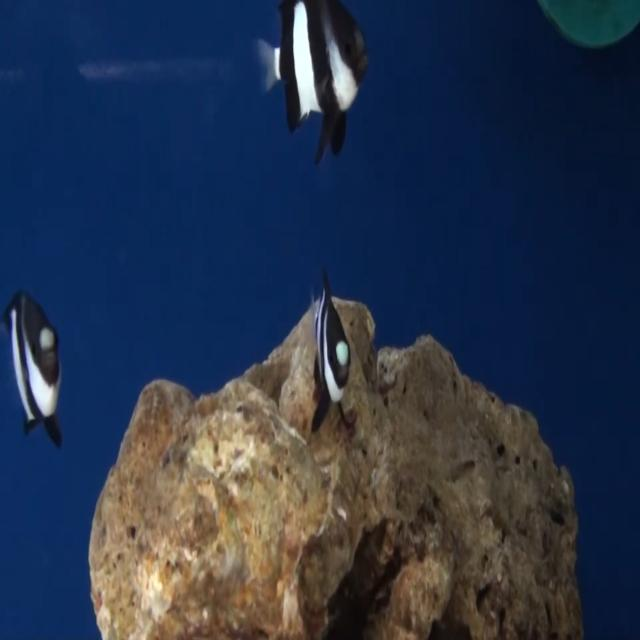ThreeStripedDamselfish: (257, 0, 368, 165), (4, 291, 62, 450)
